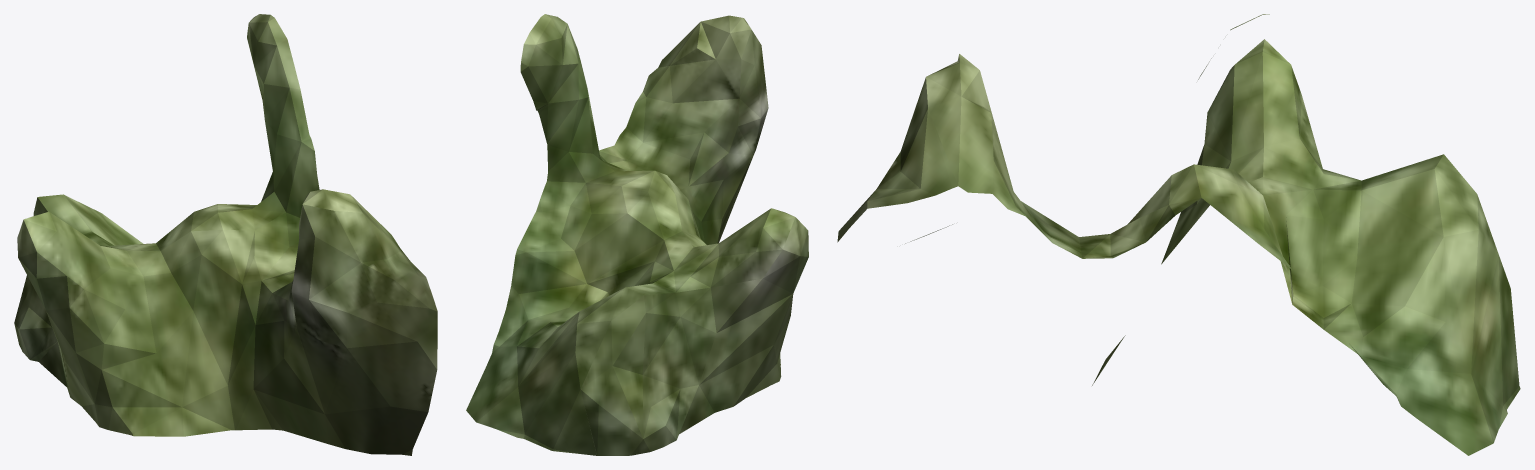
The picture shows the model from 3 angles, left to right: view 1: azimuth 30°, elevation 25°; view 2: azimuth 150°, elevation 25°; view 3: azimuth 270°, elevation 25°; orthographic projection. The views are drawn at different scales.
Bounding box in the file's own units: 0.9812 × 1.24 × 1.74.
Materials: 1 (1 with a texture image).
